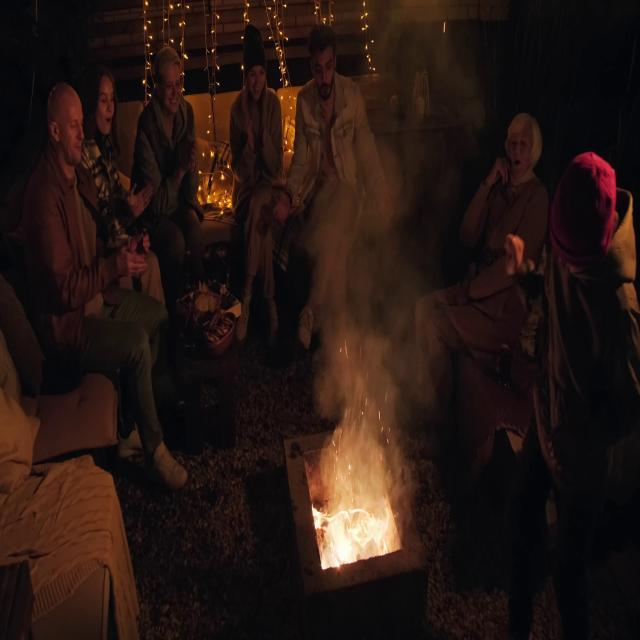Fire: (316, 482, 398, 570)
Smoke: (307, 85, 442, 462)
